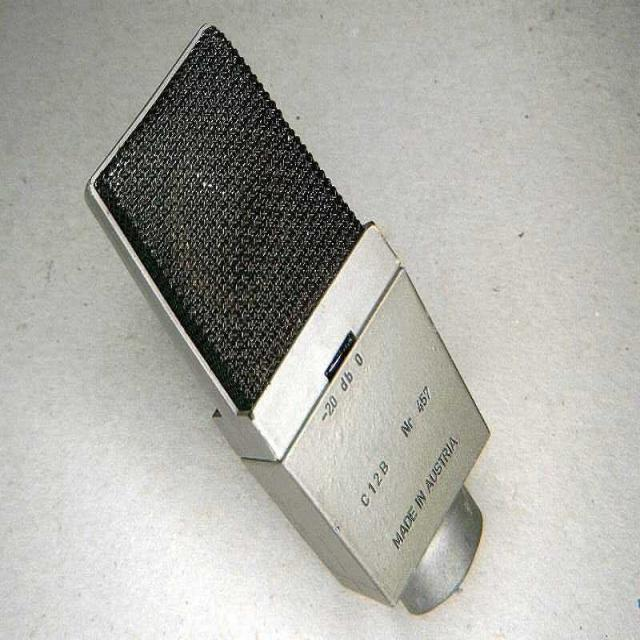microphone: (89, 25, 488, 610)
